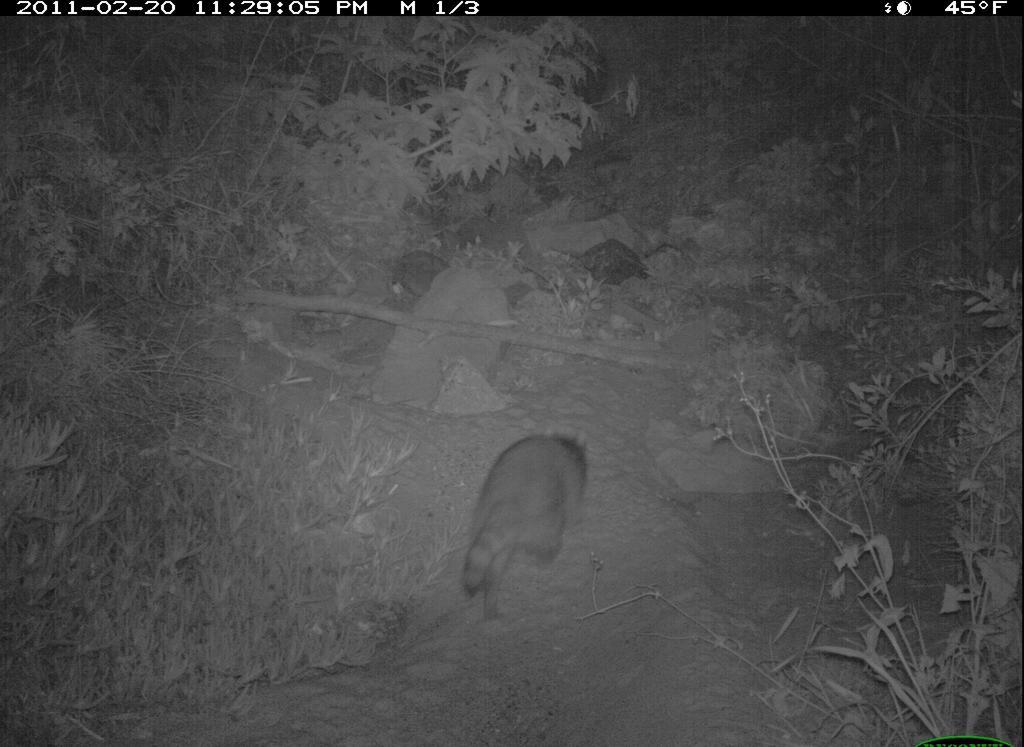raccoon: (450, 423, 612, 634)
